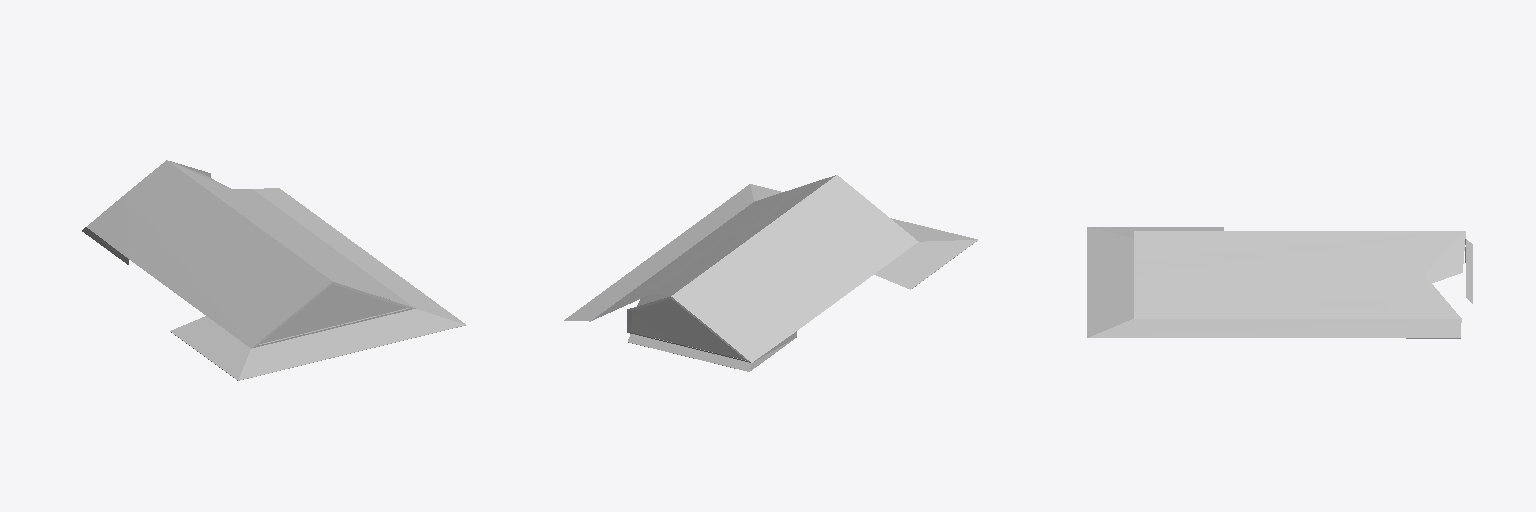
File: pb roof.All files.obj
The picture shows the model from 3 angles: view 1: azimuth 30°, elevation 25°; view 2: azimuth 150°, elevation 25°; view 3: azimuth 270°, elevation 25°; orthographic projection.
Parts seen in each view (by area): view 1: Hungarian Roof, wood_planks_old_beat_1, castle wall 2, wood_american_cherry; view 2: Hungarian Roof, wood_planks_old_beat_1, castle wall 2, castle wall 3; view 3: Hungarian Roof, wood_planks_old_beat_1.
Part boxes in pixels (bbox=[...]): Hungarian Roof: bbox=[87, 160, 465, 380]; wood_planks_old_beat_1: bbox=[167, 160, 400, 302]; castle wall 2: bbox=[170, 161, 405, 343]; wood_american_cherry: bbox=[251, 282, 415, 348]; Hungarian Roof: bbox=[564, 175, 977, 371]; wood_planks_old_beat_1: bbox=[595, 185, 806, 318]; castle wall 2: bbox=[633, 299, 706, 341]; castle wall 3: bbox=[631, 311, 796, 370]; Hungarian Roof: bbox=[1087, 227, 1472, 338]; wood_planks_old_beat_1: bbox=[1136, 231, 1465, 318].
Size of the model in its own units: 41.4 by 9.3 by 60.45.